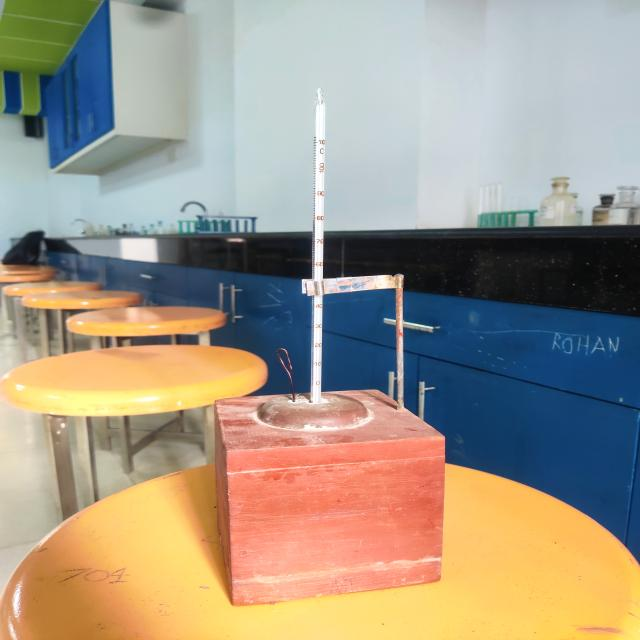Calorimeter: (195, 84, 480, 616)
